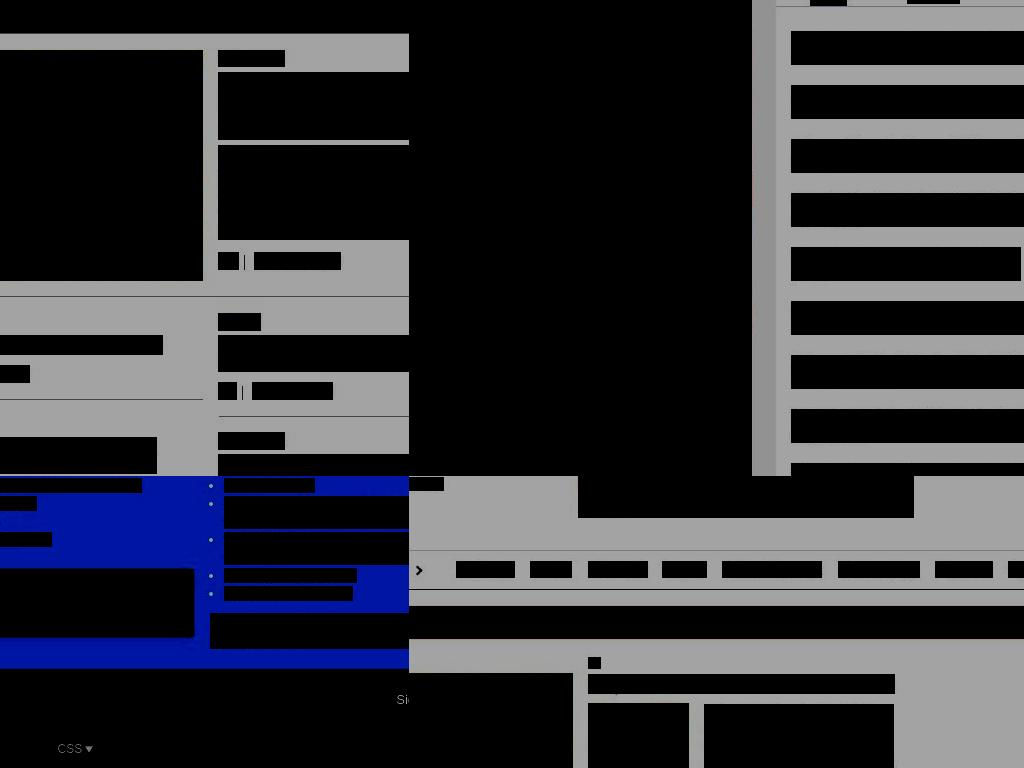button: (409, 0, 752, 476), (0, 50, 203, 281), (409, 673, 573, 768), (0, 569, 194, 637), (588, 703, 689, 768), (303, 669, 389, 729), (41, 0, 149, 22), (149, 0, 253, 22), (47, 729, 104, 768), (253, 0, 345, 22), (810, 0, 847, 6)
heading: (409, 606, 1024, 639), (578, 476, 914, 518), (218, 72, 409, 140), (409, 378, 720, 415), (218, 335, 409, 372), (588, 674, 895, 694), (0, 437, 157, 474), (218, 454, 409, 476), (0, 335, 163, 355)
image: (409, 0, 752, 330), (0, 50, 203, 281), (409, 673, 573, 768), (588, 703, 689, 768), (309, 691, 334, 707), (85, 745, 94, 753)
link: (409, 430, 720, 476), (791, 31, 1024, 65), (791, 85, 1024, 119), (791, 139, 1024, 173), (791, 193, 1024, 227), (791, 301, 1024, 335), (791, 355, 1024, 389), (791, 409, 1024, 443), (791, 247, 1021, 281), (224, 496, 409, 529), (224, 532, 409, 565), (0, 579, 185, 609), (409, 350, 720, 363), (791, 463, 1024, 476), (0, 615, 171, 627), (224, 568, 357, 583), (224, 586, 353, 601), (722, 561, 822, 578), (838, 561, 920, 578), (224, 478, 315, 493), (588, 561, 648, 578), (456, 561, 515, 578), (935, 561, 993, 578), (0, 532, 52, 547), (396, 669, 409, 729), (662, 561, 707, 578), (530, 561, 572, 578), (0, 478, 37, 493), (0, 496, 37, 511), (1008, 561, 1024, 578), (588, 657, 601, 669)
text: (218, 145, 409, 240), (704, 704, 894, 768), (210, 613, 409, 649), (35, 478, 142, 493), (254, 252, 341, 270), (252, 382, 333, 400), (218, 432, 285, 450), (218, 50, 285, 67), (218, 313, 261, 331), (334, 691, 382, 707), (0, 365, 30, 383), (409, 477, 444, 491), (218, 252, 239, 270), (57, 742, 83, 756), (218, 382, 237, 400)
